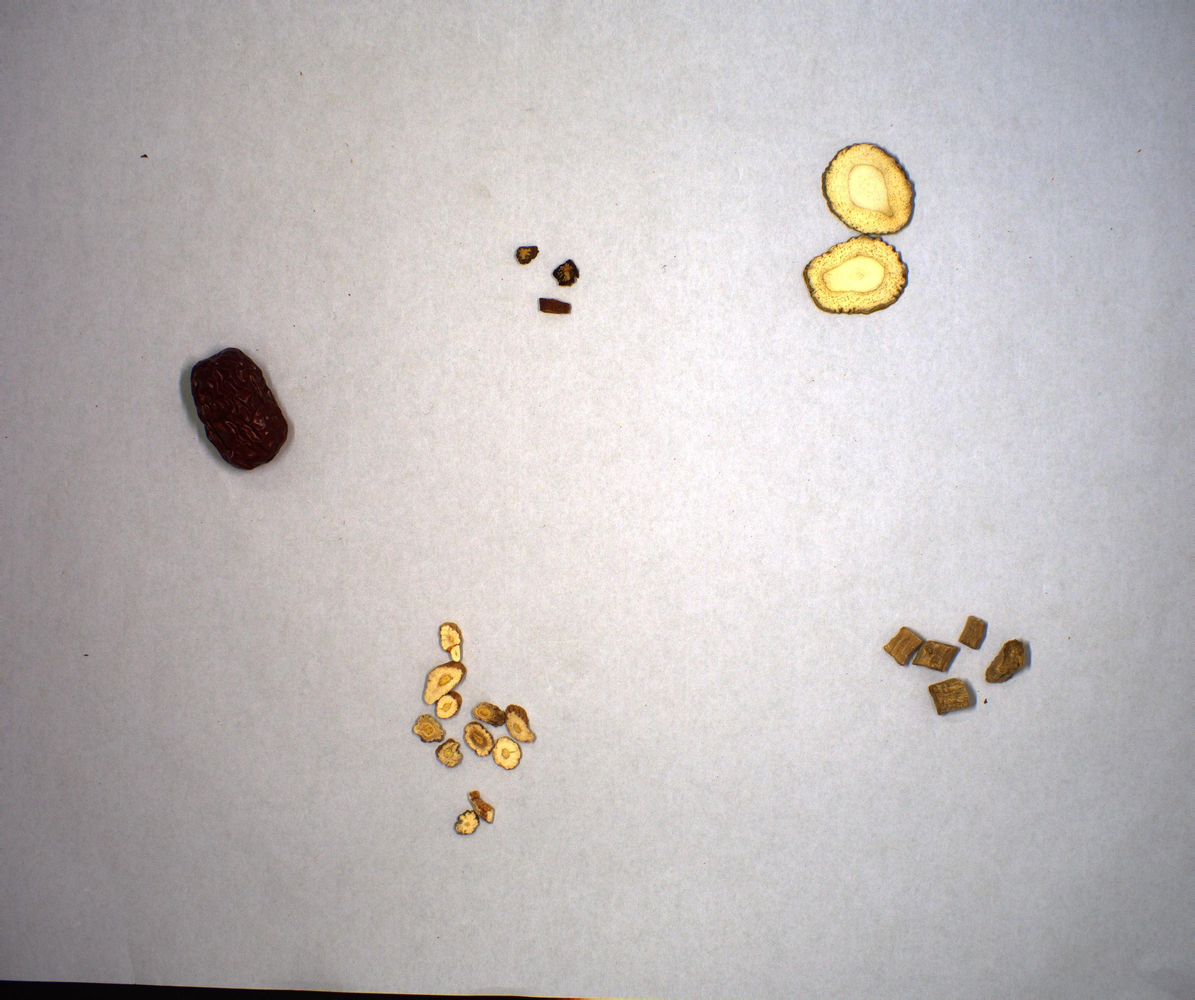baizhi: (797, 136, 918, 318)
banlangen: (400, 613, 550, 844)
danshen: (501, 231, 590, 346)
dazao: (175, 337, 293, 480)
niuxi: (861, 609, 1046, 732)
